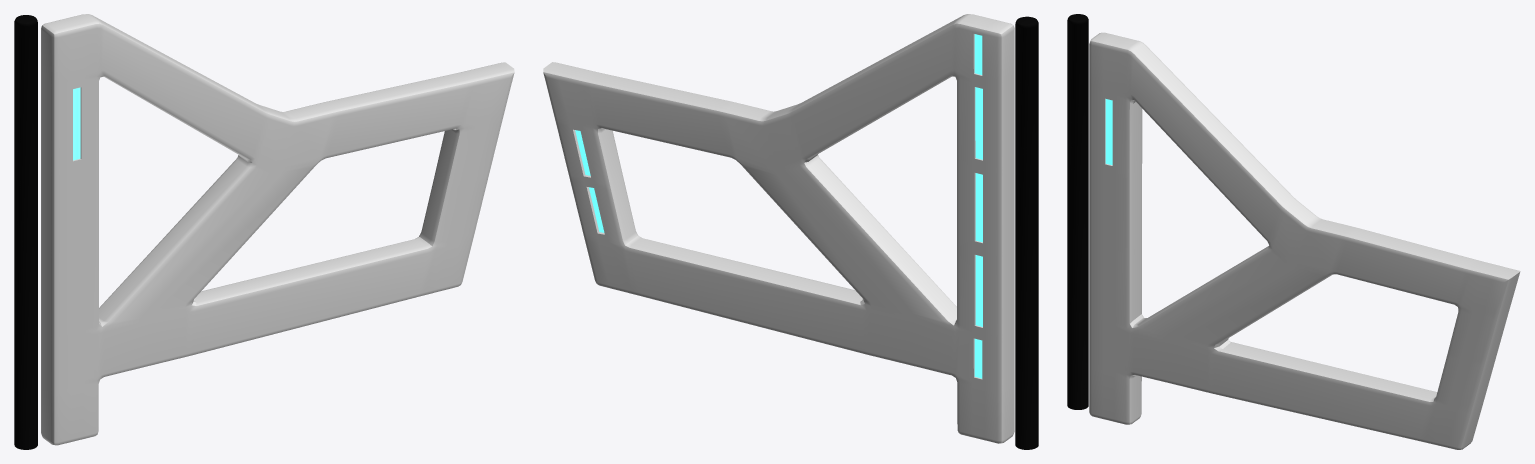
Rendered from gate1.fbx.
The picture shows the model from 3 angles, left to right: view 1: azimuth 30°, elevation 25°; view 2: azimuth 150°, elevation 25°; view 3: azimuth 330°, elevation 25°; orthographic projection. The views are drawn at different scales.
Visible parts, largest first — view 1: Road.002; view 2: Road.002; view 3: Road.002.
Boxes of the visible parts, left/top/right/bottom form: Road.002: left=14, top=14, right=514, bottom=449; Road.002: left=543, top=14, right=1038, bottom=449; Road.002: left=1067, top=14, right=1520, bottom=449.
Size of the model in its own units: 311 by 258 by 16.23.
